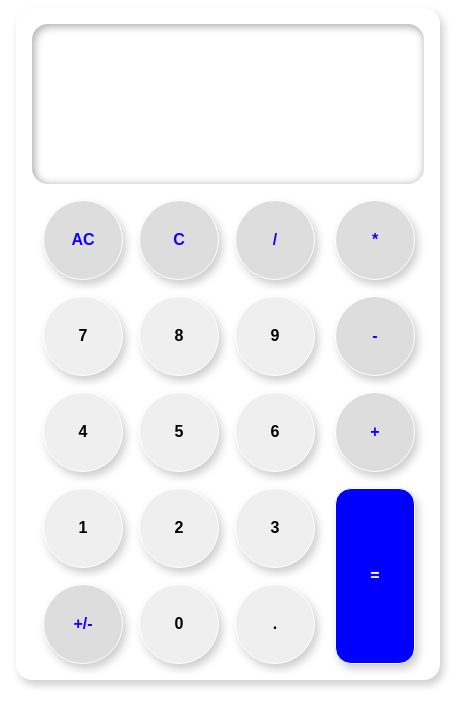
Test case: Home Tests › performs multiplication operation correctly
// Simula las operaciones para realizar una multiplicación
Step 1. Click the button "4" → (83, 432), box [43,392,123,472]
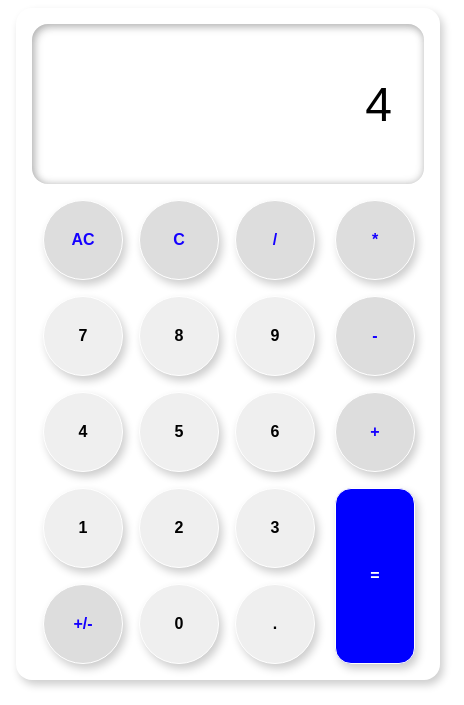
Step 2. Click the button "*" → (375, 240), box [335,200,415,280]
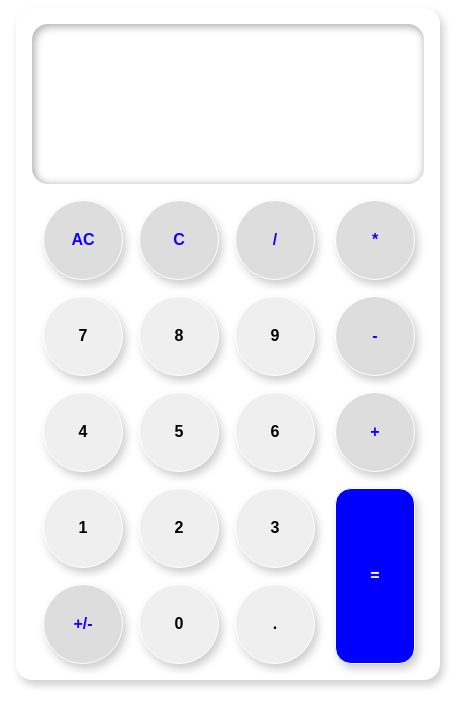
Step 3. Click the button "3" → (275, 528), box [235,488,315,568]
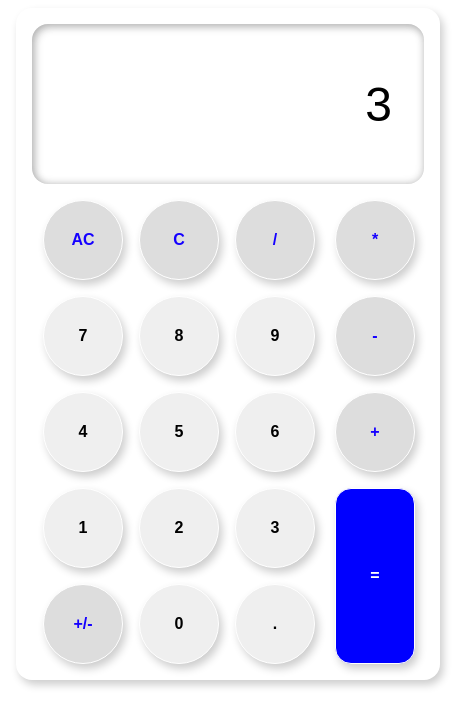
Step 4. Click the button "=" → (375, 576), box [335,488,415,664]
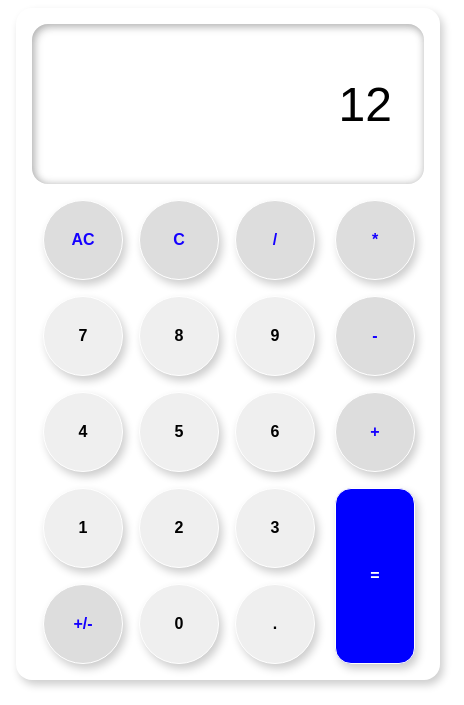
Result: the text "12" is shown at [339,78,392,130]
